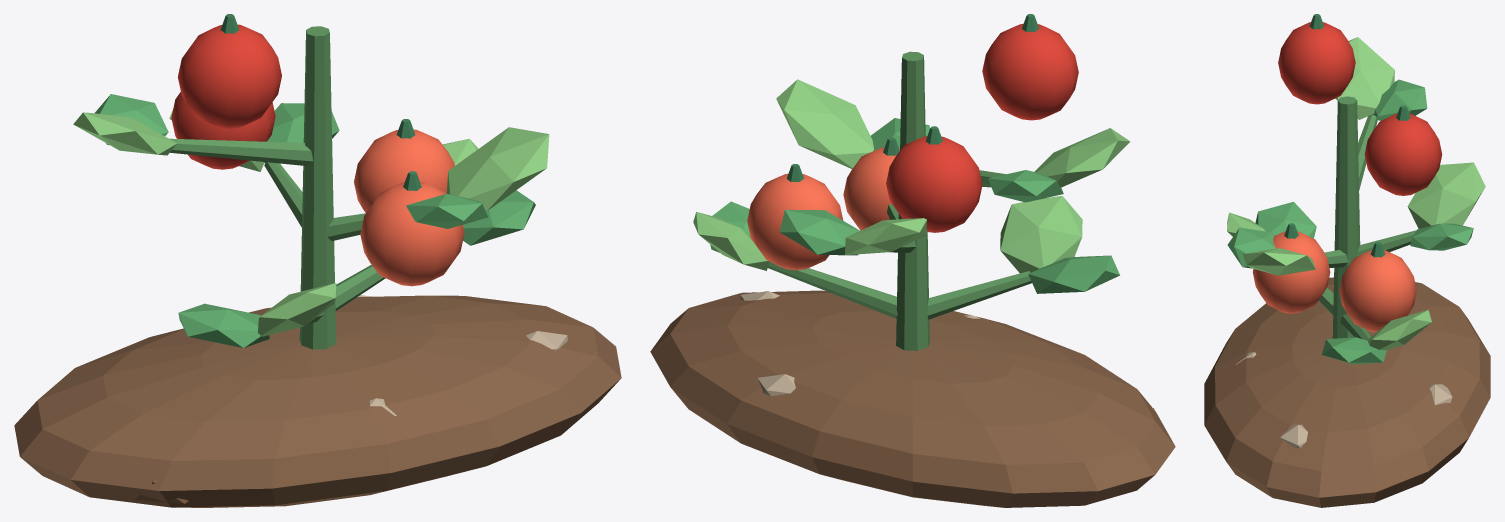
File: (2)potato.fbx
3 renders of one model, left to right at view 1: azimuth 30°, elevation 25°; view 2: azimuth 150°, elevation 25°; view 3: azimuth 270°, elevation 25°, orthographic. The views are drawn at different scales.
Parts seen in each view (by area): view 1: Tomato_Level_2; view 2: Tomato_Level_2; view 3: Tomato_Level_2.
Boxes of the visible parts, left/top/right/bottom form: Tomato_Level_2: left=14, top=14, right=621, bottom=507; Tomato_Level_2: left=650, top=14, right=1175, bottom=507; Tomato_Level_2: left=1204, top=14, right=1490, bottom=507.
Bounding box in the file's own units: 280 × 233 × 158.
